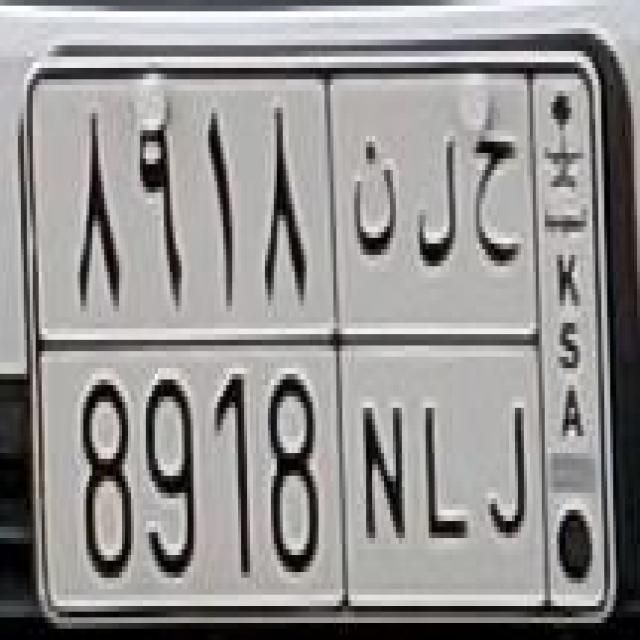license_plate: (22, 55, 617, 627)
